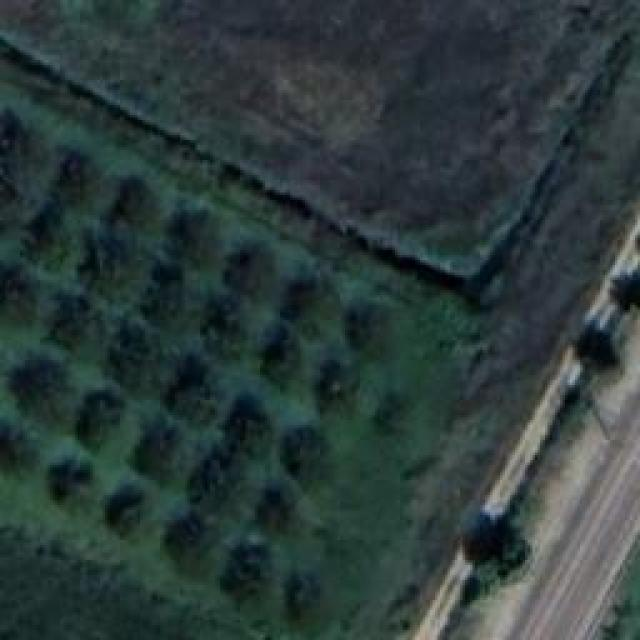Tree: (147, 353, 225, 433), (75, 225, 145, 313), (103, 318, 173, 401), (328, 295, 403, 370), (2, 353, 70, 433), (157, 510, 225, 585), (18, 200, 81, 280), (185, 442, 245, 520), (275, 275, 343, 343), (210, 395, 273, 468), (190, 288, 248, 363), (250, 315, 303, 395), (165, 200, 225, 270), (222, 245, 290, 303), (75, 387, 133, 455), (465, 518, 530, 578), (128, 415, 178, 488), (0, 110, 50, 183), (52, 292, 110, 350), (313, 358, 366, 418), (0, 263, 45, 333), (113, 173, 163, 236), (280, 428, 330, 488), (50, 150, 103, 203), (102, 483, 150, 538), (145, 263, 185, 326), (228, 537, 268, 595), (48, 460, 91, 510), (573, 325, 618, 370), (0, 422, 32, 479), (285, 572, 323, 610), (612, 270, 640, 313)
